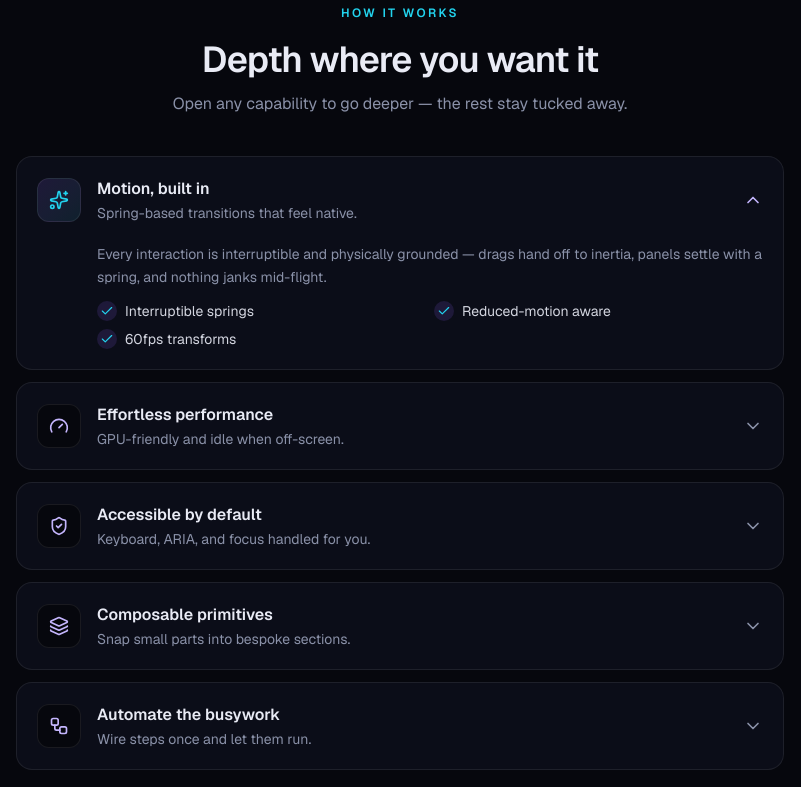
Test: FeatureAccordion › renders with the first item open and keeps a single panel open
This screenshot has width=801, height=787.
# opening another closes the first (single-open)
Step 1. Click the button that starts with "Effortless performance" → (59, 426), box left=17, top=382, right=783, bottom=468
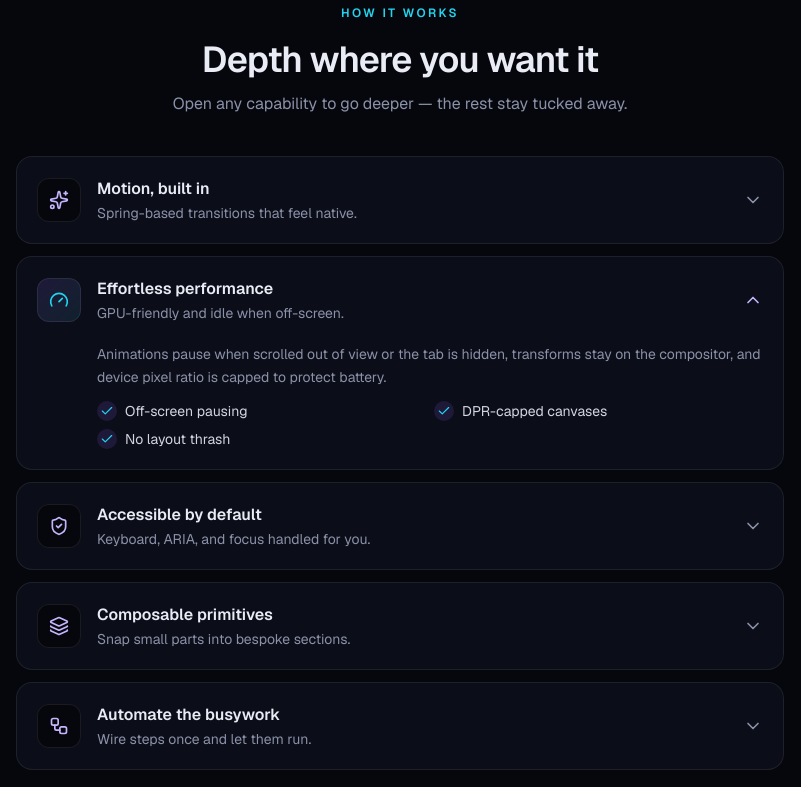
Expected: the button that starts with "Effortless performance" is expanded
Expected: the button "Motion, built in Spring-based transitions that feel native." is collapsed, left=17, top=157, right=783, bottom=243
# clicking the open header collapses it
Step 2. Click the button that starts with "Effortless performance" → (59, 300), box left=17, top=257, right=783, bottom=343
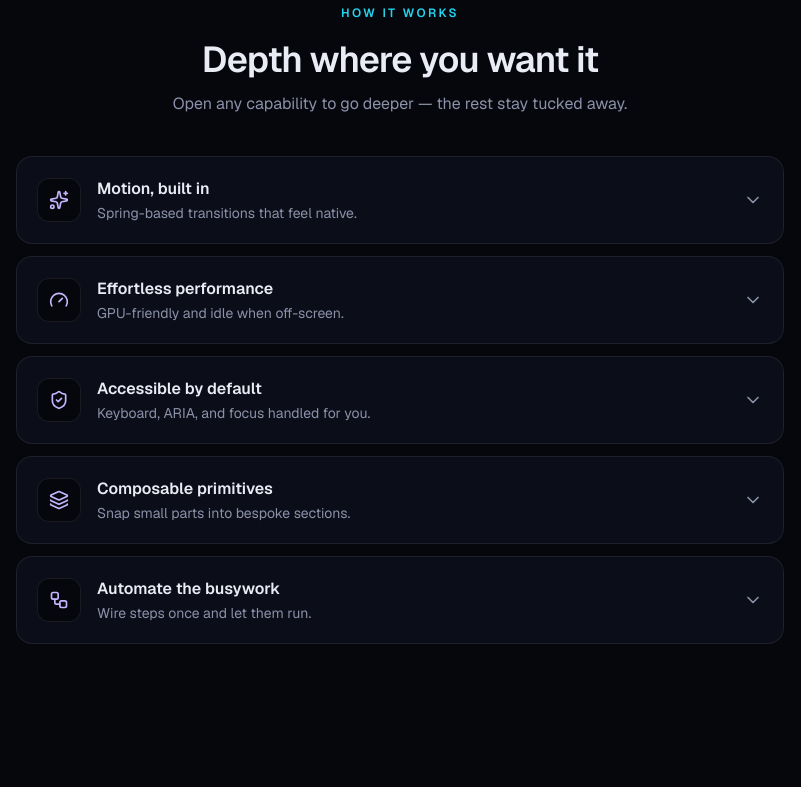
Expected: the button that starts with "Effortless performance" is collapsed, left=17, top=257, right=783, bottom=343
